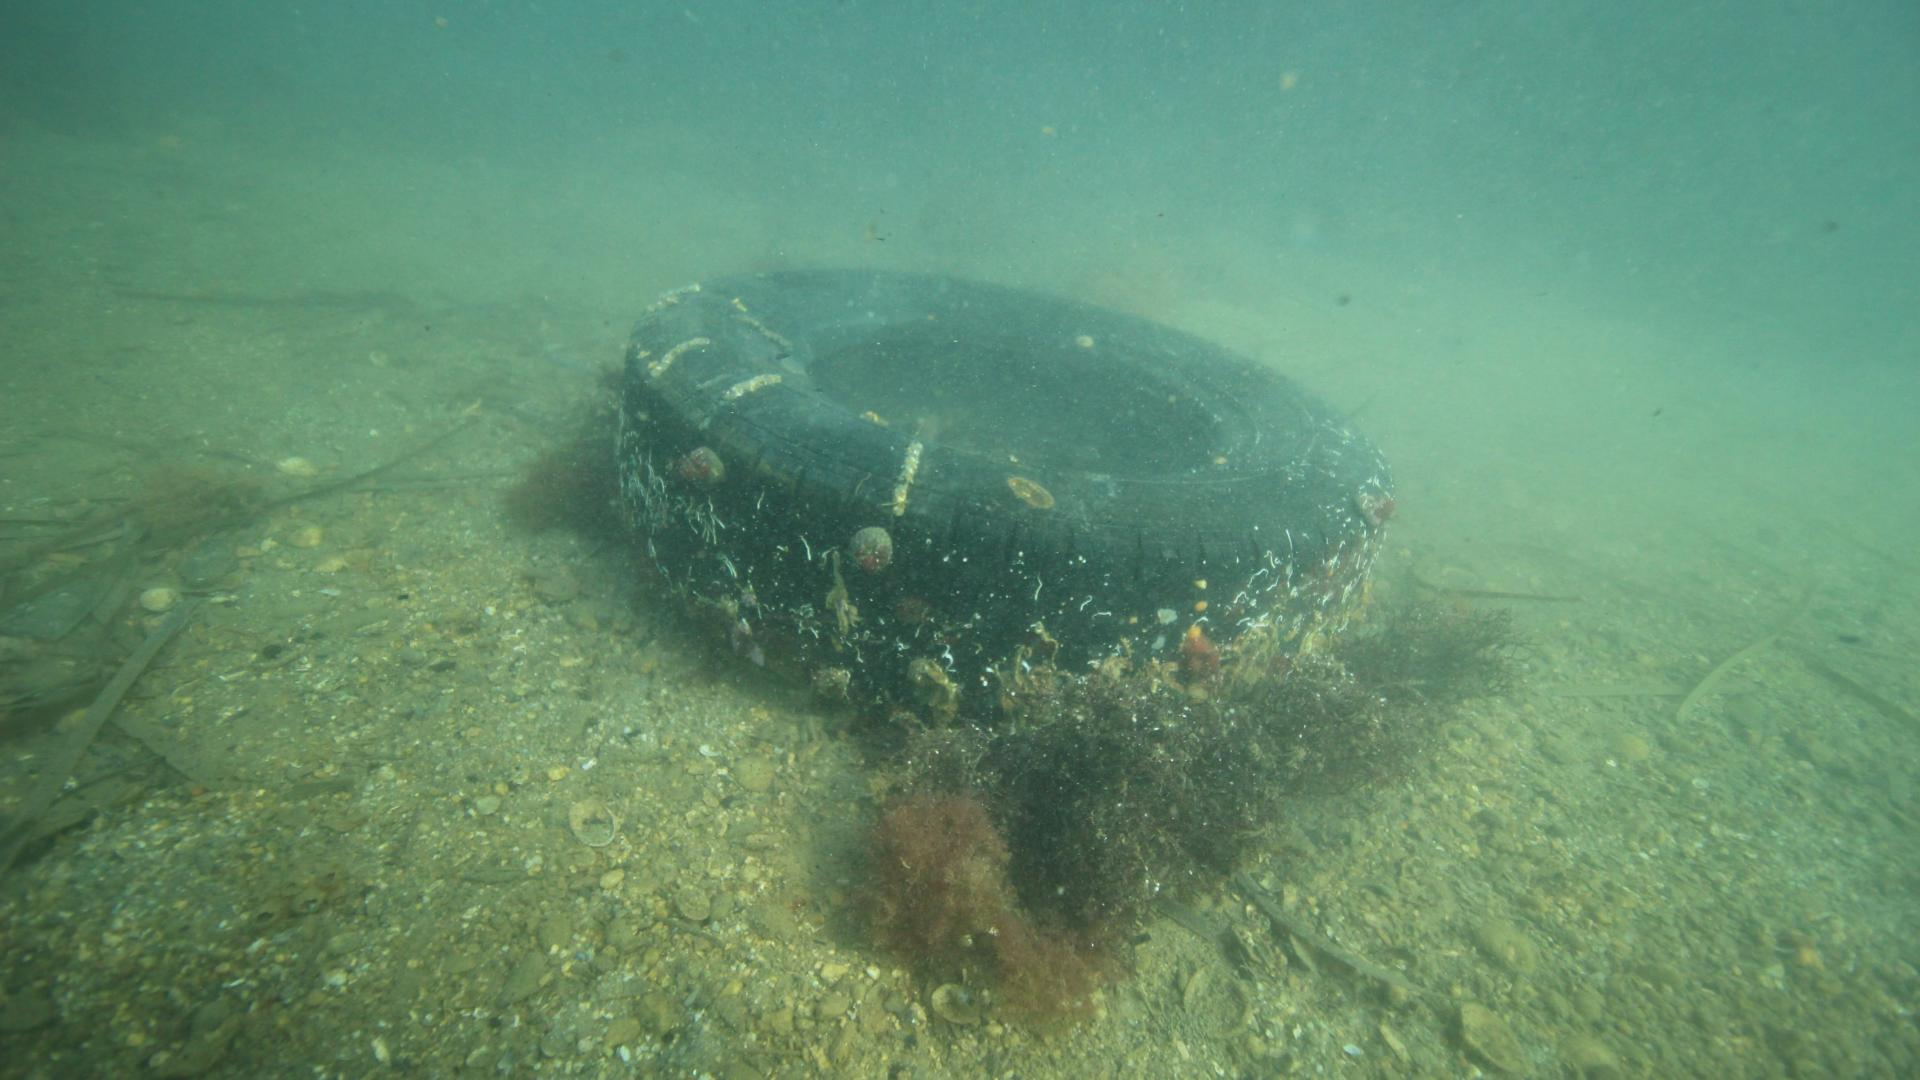tire: (612, 258, 1385, 725)
